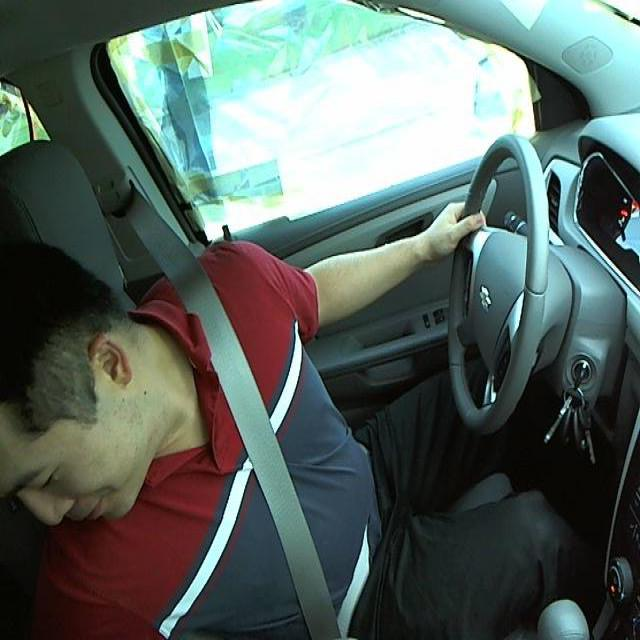seatbelt: (178, 305, 371, 631)
